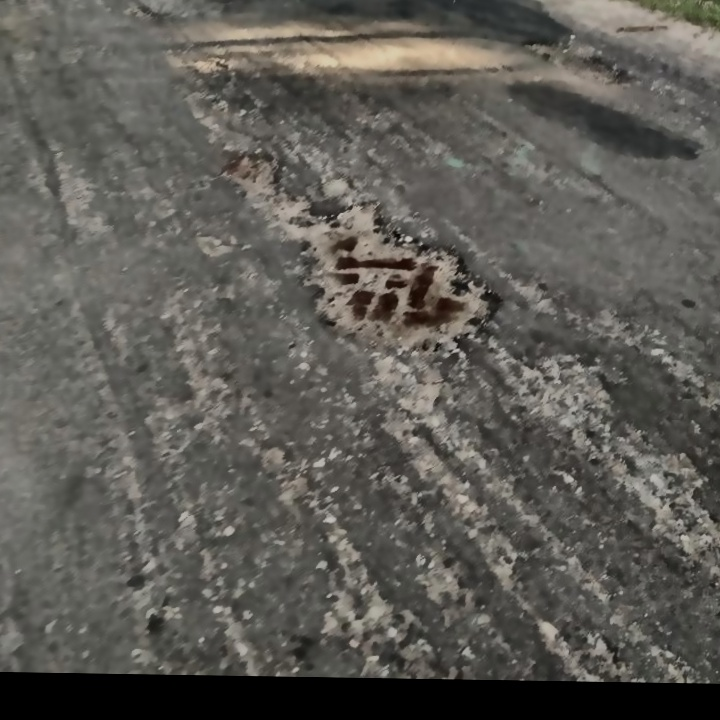pothole: (292, 197, 515, 363), (521, 34, 634, 86), (223, 148, 281, 202)
